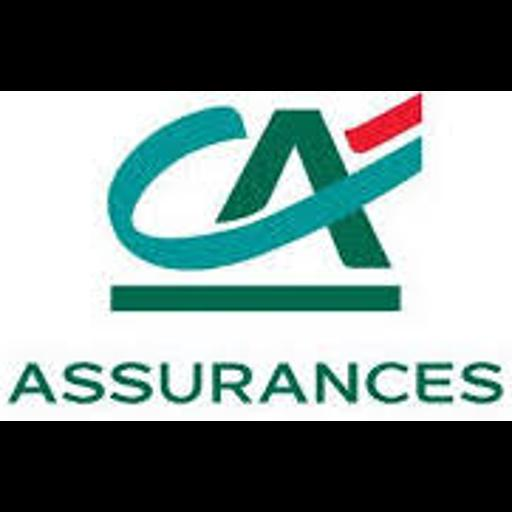Credit Agricole S-A: (0, 91, 512, 421)
